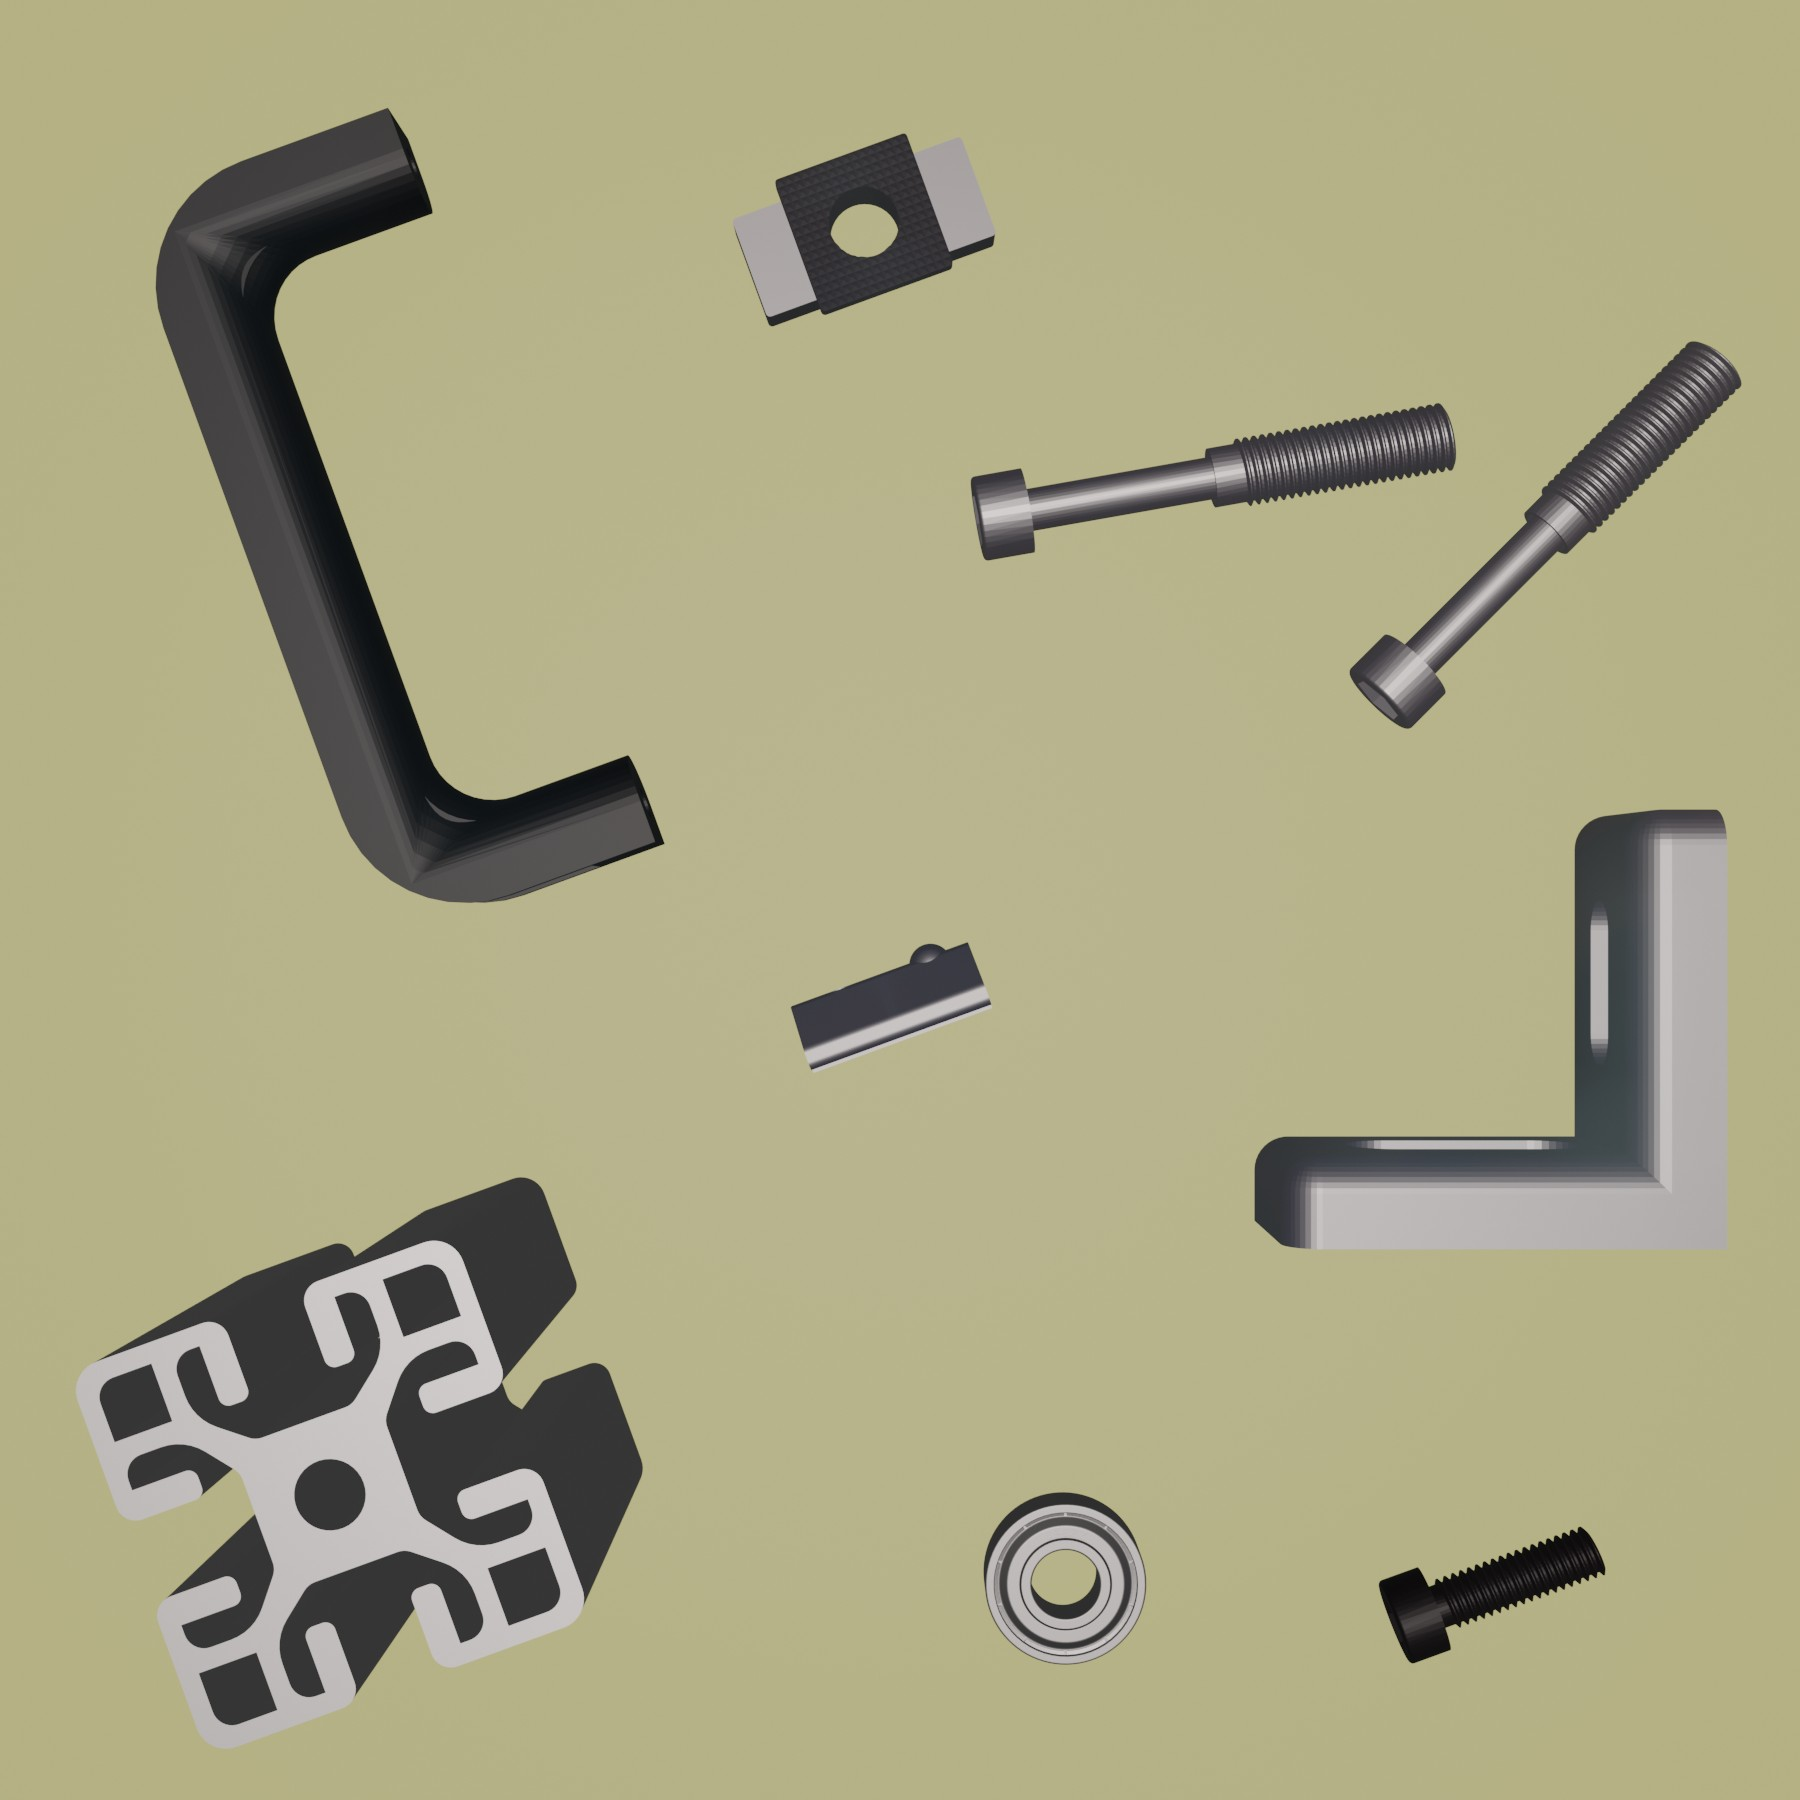Aluminium Extension: (69, 1174, 646, 1749)
Ball Bearing: (979, 1488, 1151, 1670)
Multiwinkel: (1249, 804, 1736, 1258)
Pull Handle: (152, 107, 668, 907)
Shoulder Socket Head Cap Screw: (1347, 336, 1744, 732), (969, 399, 1459, 564)
Socket Head Cap Screw: (1376, 1526, 1609, 1666)
T Nut Square: (729, 127, 1001, 328)
T Spring Nut: (790, 940, 994, 1073)
